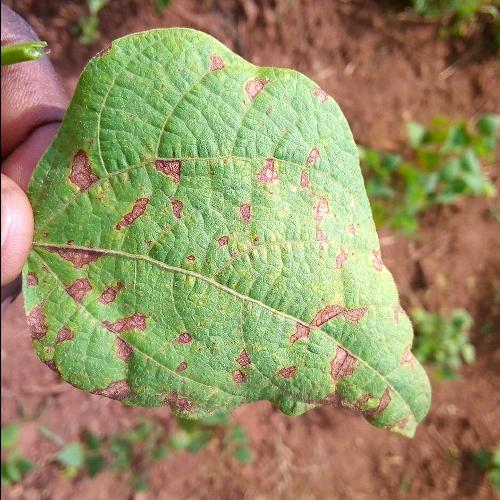hawar: (20, 19, 433, 436)
